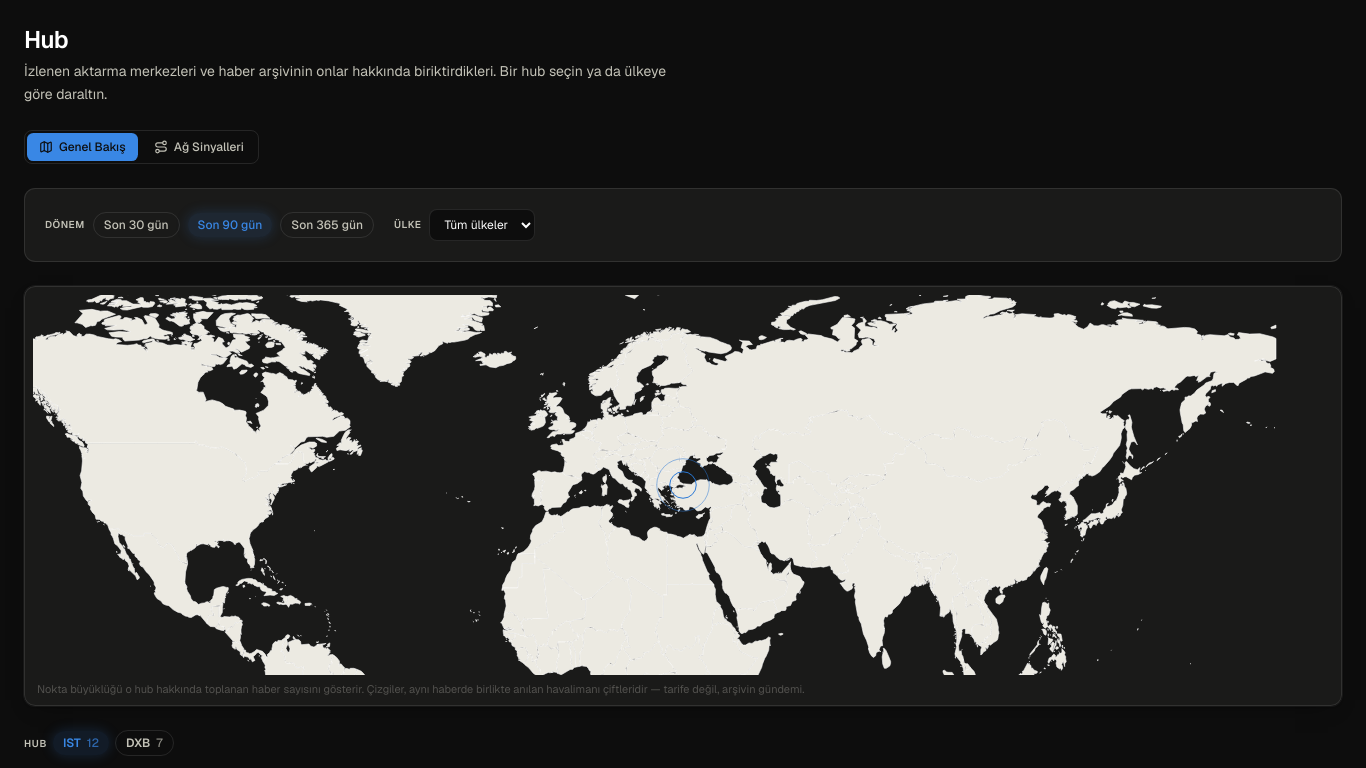
Test case: HubsClient › never shows one hub's evidence under another hub's heading
Click the button "DXB 7": (144, 743) [115,730,174,756]
(page scrolled)
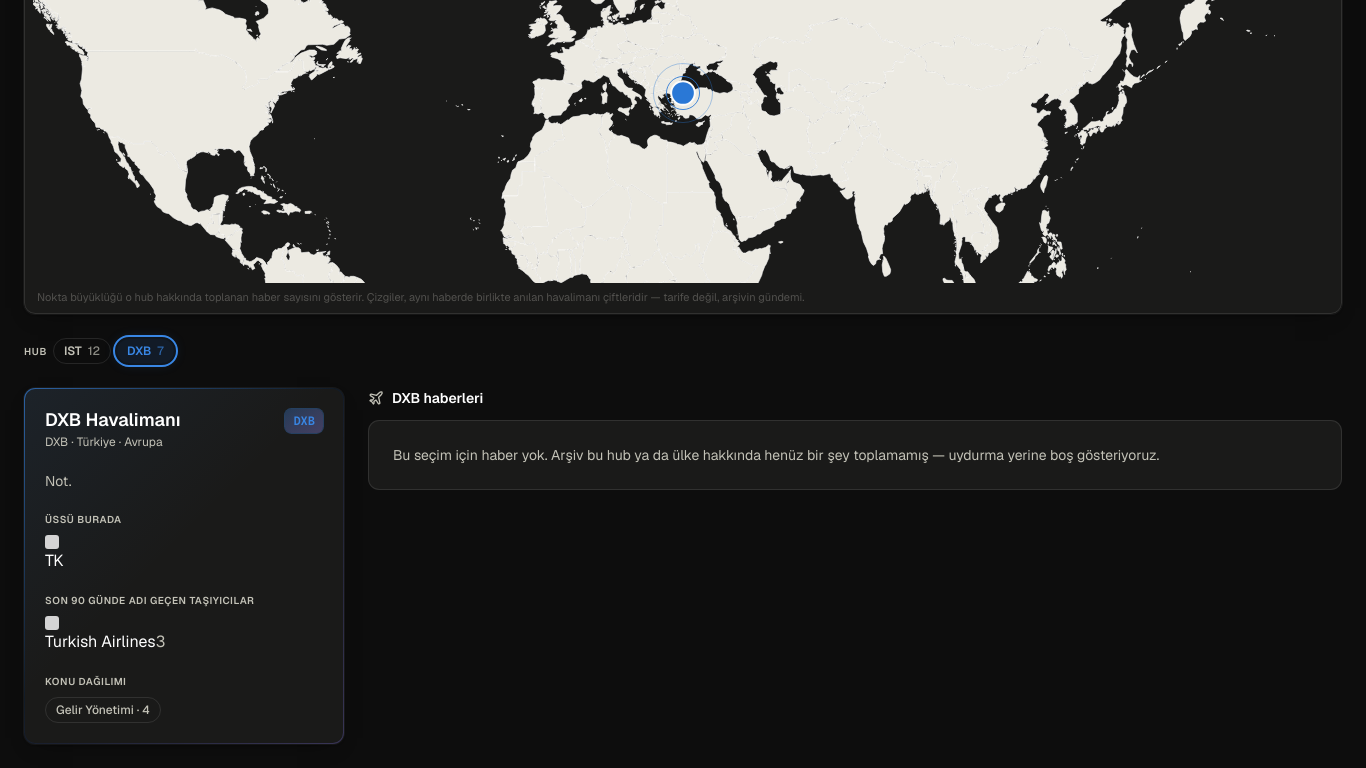
Expected: the heading "DXB Havalimanı" is shown, [45,409,180,432]
